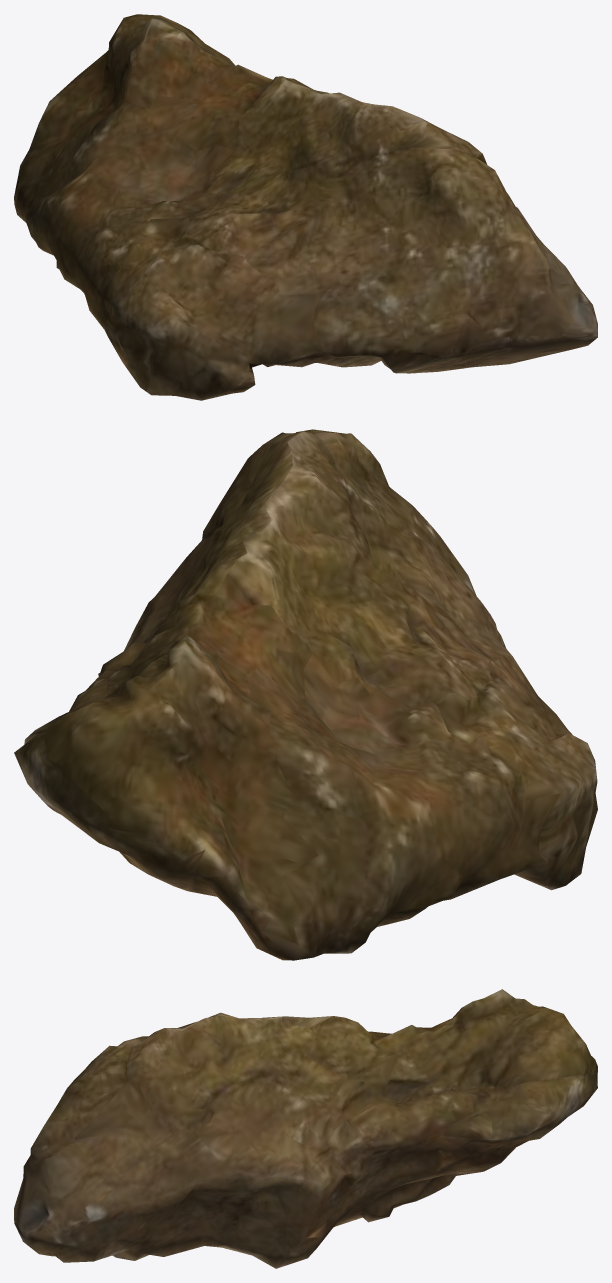
File: mossrock_1.gltf
3 views of the same model, one above another, from view 1: azimuth 30°, elevation 25°; view 2: azimuth 150°, elevation 25°; view 3: azimuth 270°, elevation 25° (orthographic). The views are drawn at different scales.
Parts seen in each view (by area): view 1: mossrock_1; view 2: mossrock_1; view 3: mossrock_1.
Boxes of the visible parts, <box> form: mossrock_1: <box>14,14,597,400</box>; mossrock_1: <box>14,429,597,960</box>; mossrock_1: <box>14,989,597,1268</box>.
Size of the model in its own units: 2.24 by 1.47 by 3.36.
1 material, 1 textured.
